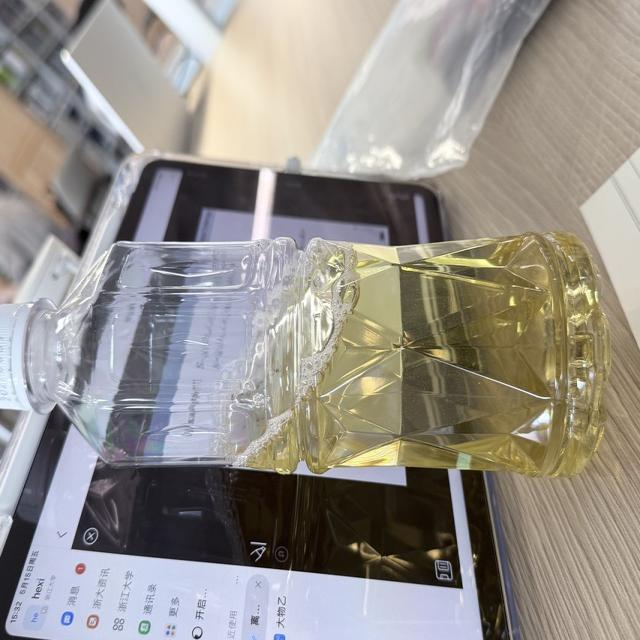medium: (0, 233, 609, 476)
